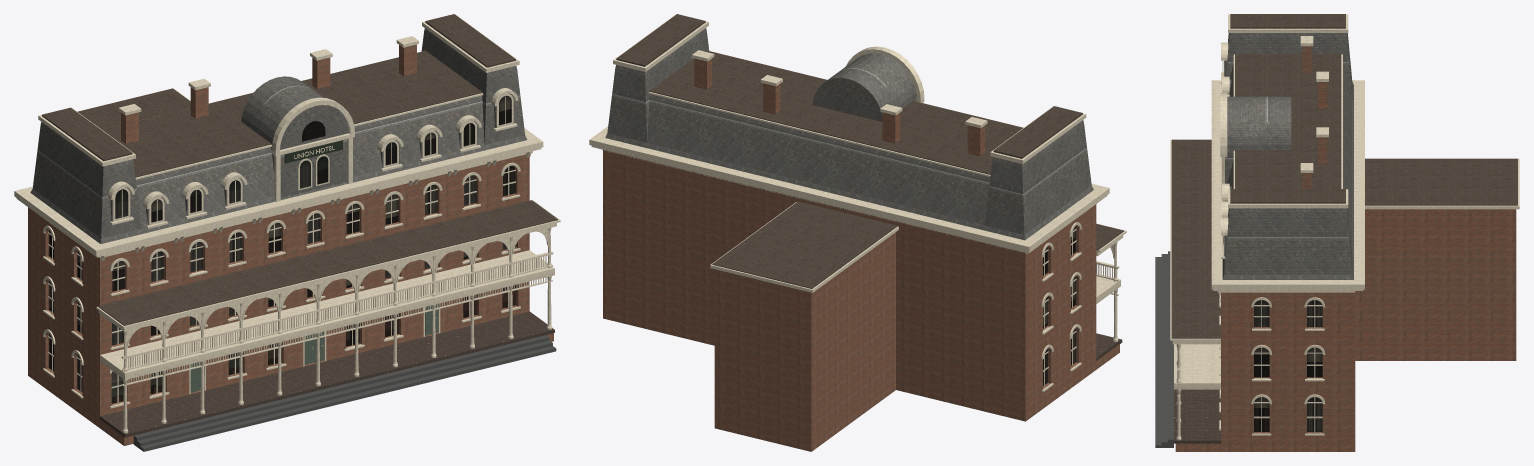
Rendered from union-hotel.glb.
The picture shows the model from 3 angles, left to right: view 1: azimuth 30°, elevation 25°; view 2: azimuth 150°, elevation 25°; view 3: azimuth 270°, elevation 25°; orthographic projection. The views are drawn at different scales.
Visible parts, largest first — view 1: UnionHotel; view 2: UnionHotel; view 3: UnionHotel.
Part boxes in pixels (bbox=[...]): UnionHotel: bbox=[14, 14, 560, 451]; UnionHotel: bbox=[589, 14, 1126, 451]; UnionHotel: bbox=[1155, 14, 1519, 451].
Bounding box in the file's own units: 30.9 × 18.15 × 23.3.
13 materials, 12 textured.
